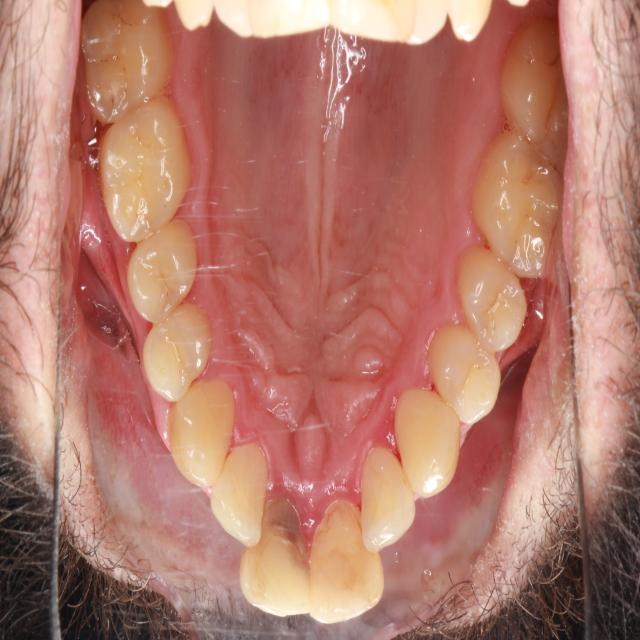tooth: (464, 108, 570, 293), (93, 98, 197, 257), (81, 5, 185, 139), (492, 9, 576, 173), (299, 488, 393, 627), (421, 309, 513, 443), (125, 294, 220, 417), (111, 223, 214, 336), (386, 365, 463, 510), (239, 491, 320, 627), (166, 372, 244, 513), (456, 245, 531, 369), (210, 431, 276, 562), (351, 439, 418, 558)
